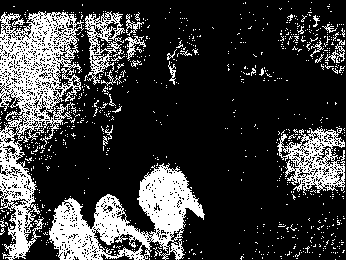person: (88, 193, 150, 260), (48, 196, 100, 260)
